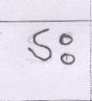anusvara: (60, 35, 72, 44)
